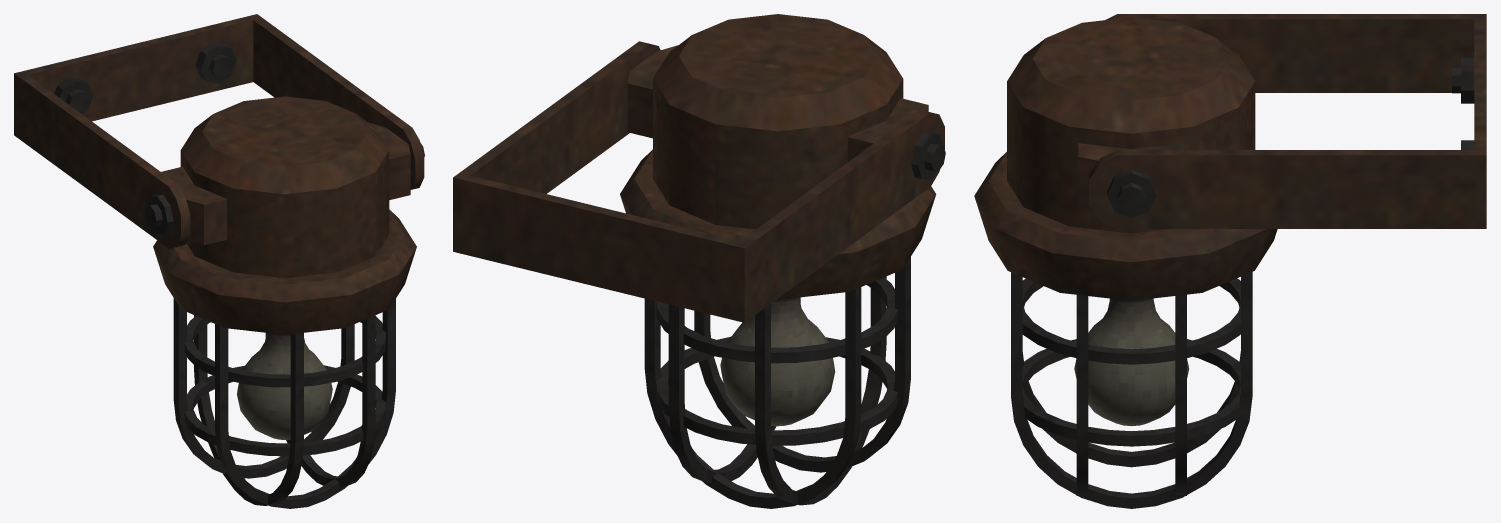
Rendered from lamp_mx_1_off.obj.
The picture shows the model from 3 angles, left to right: view 1: azimuth 30°, elevation 25°; view 2: azimuth 150°, elevation 25°; view 3: azimuth 270°, elevation 25°; orthographic projection. The views are drawn at different scales.
Parts seen in each view (by area): view 1: lamp_mx_1_off; view 2: lamp_mx_1_off; view 3: lamp_mx_1_off.
Boxes of the visible parts, box(x1,y1,x2,y2) form: lamp_mx_1_off: box(14, 14, 424, 508); lamp_mx_1_off: box(453, 14, 945, 508); lamp_mx_1_off: box(974, 14, 1486, 508).
Size of the model in its own units: 0.2245 by 0.2865 by 0.3118.
